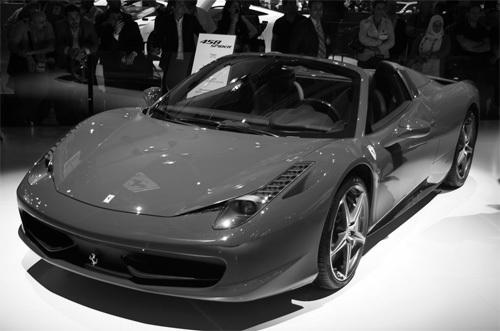car: (17, 52, 484, 305)
